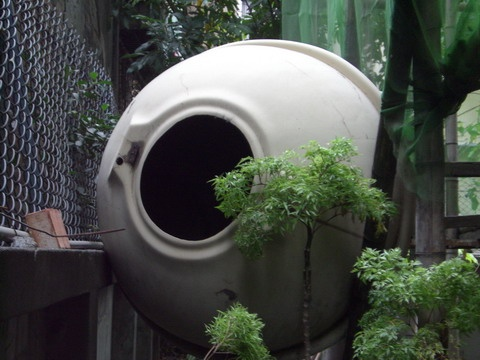water_tower: (91, 37, 411, 360)
